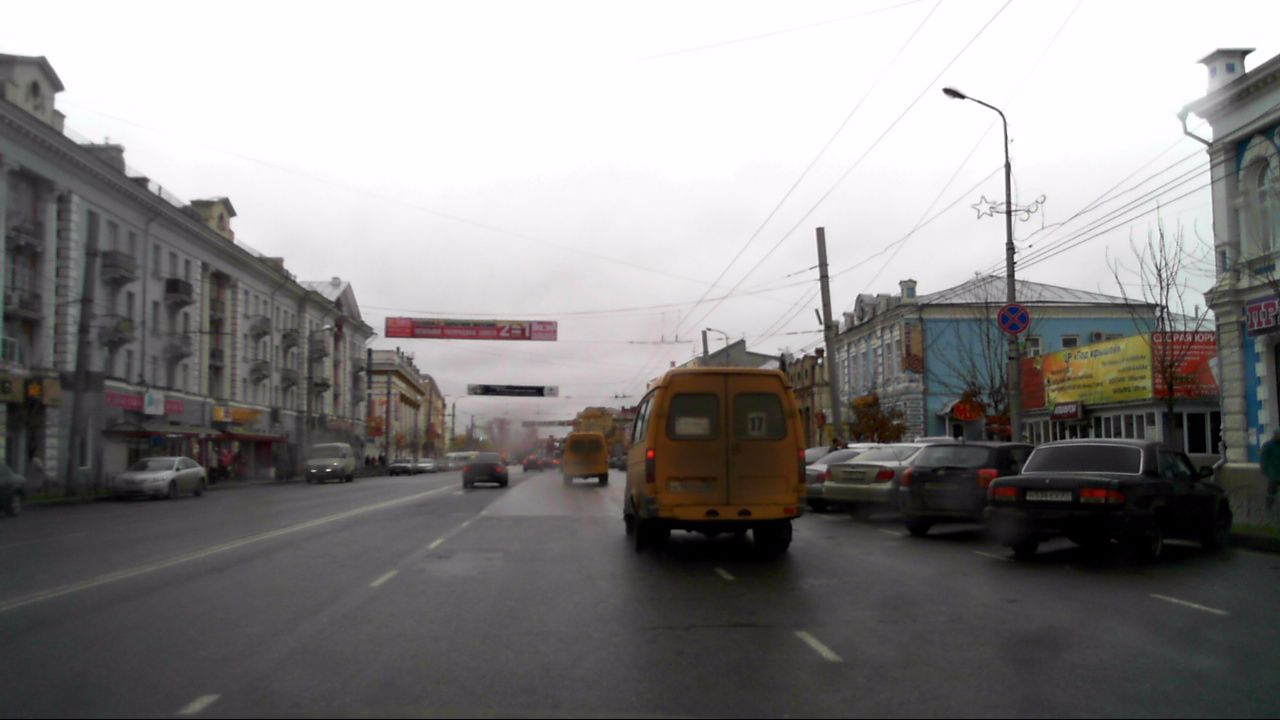No Parking: (997, 303, 1029, 335)
